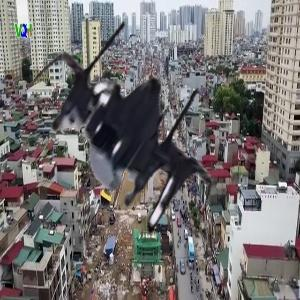drone: (10, 20, 243, 253)
